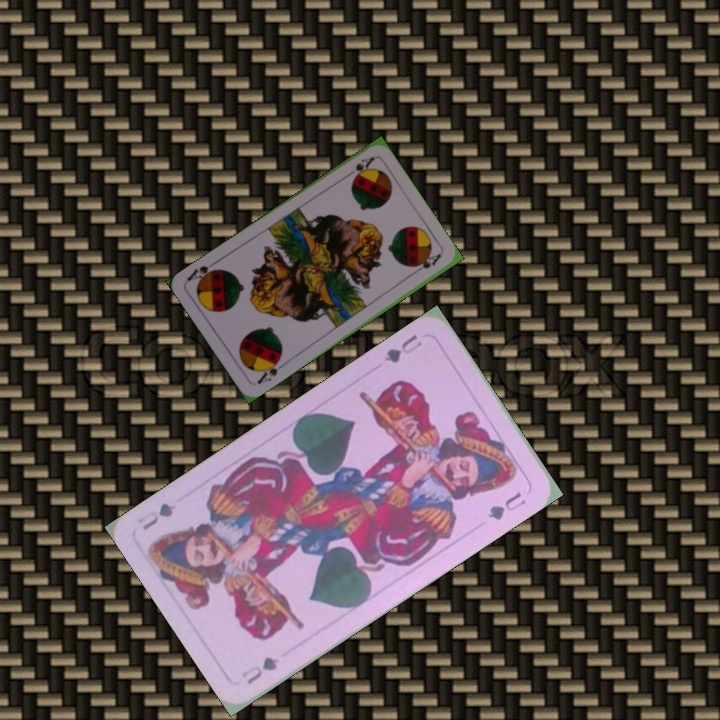GU: (381, 330, 425, 366), (237, 652, 281, 687)
SA: (253, 354, 288, 387), (341, 152, 377, 181)
